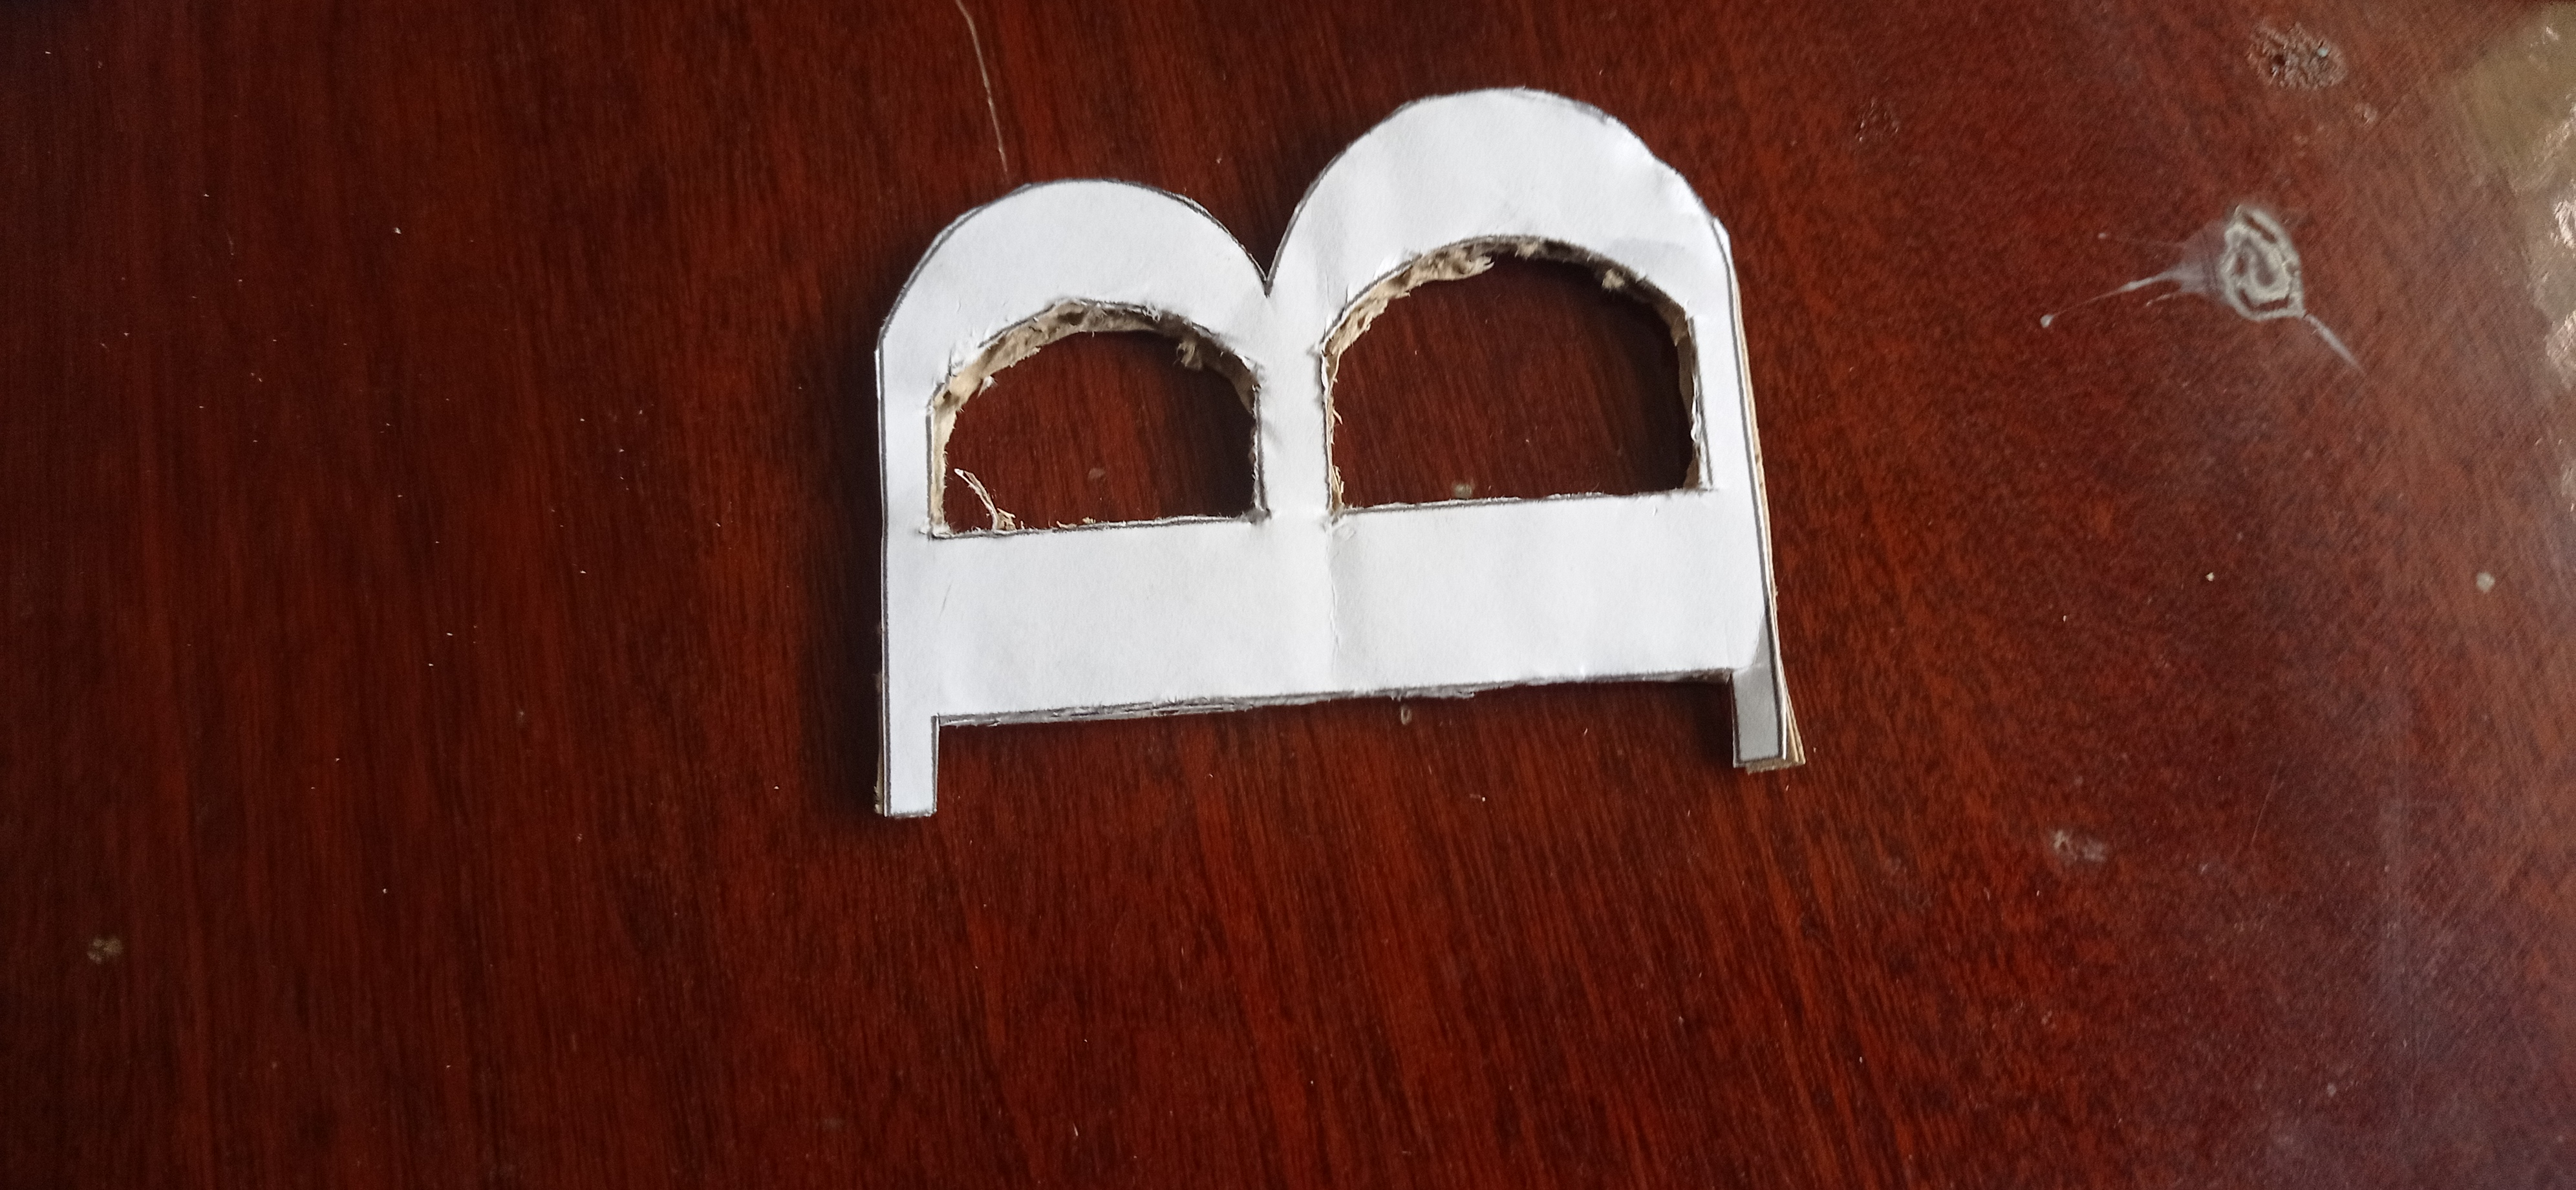v: (869, 81, 1810, 828)
